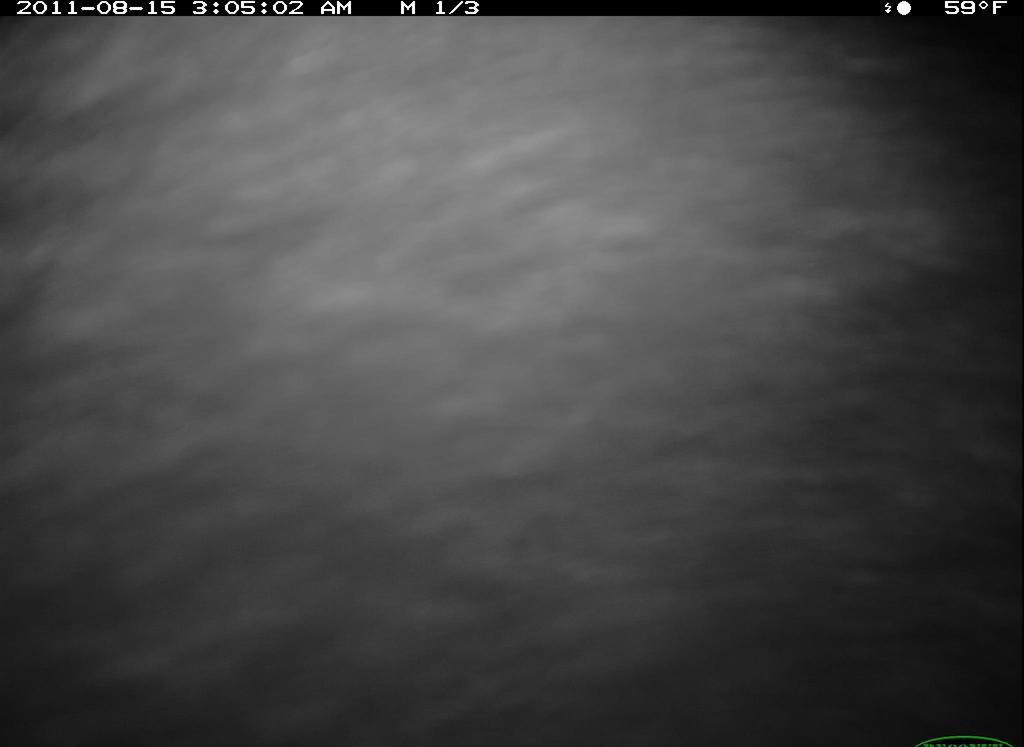raccoon: (1, 20, 1019, 745)
